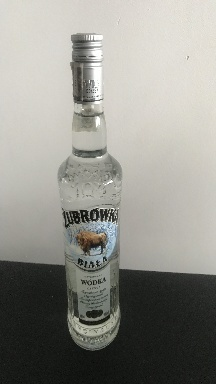butelka: (55, 30, 123, 353)
